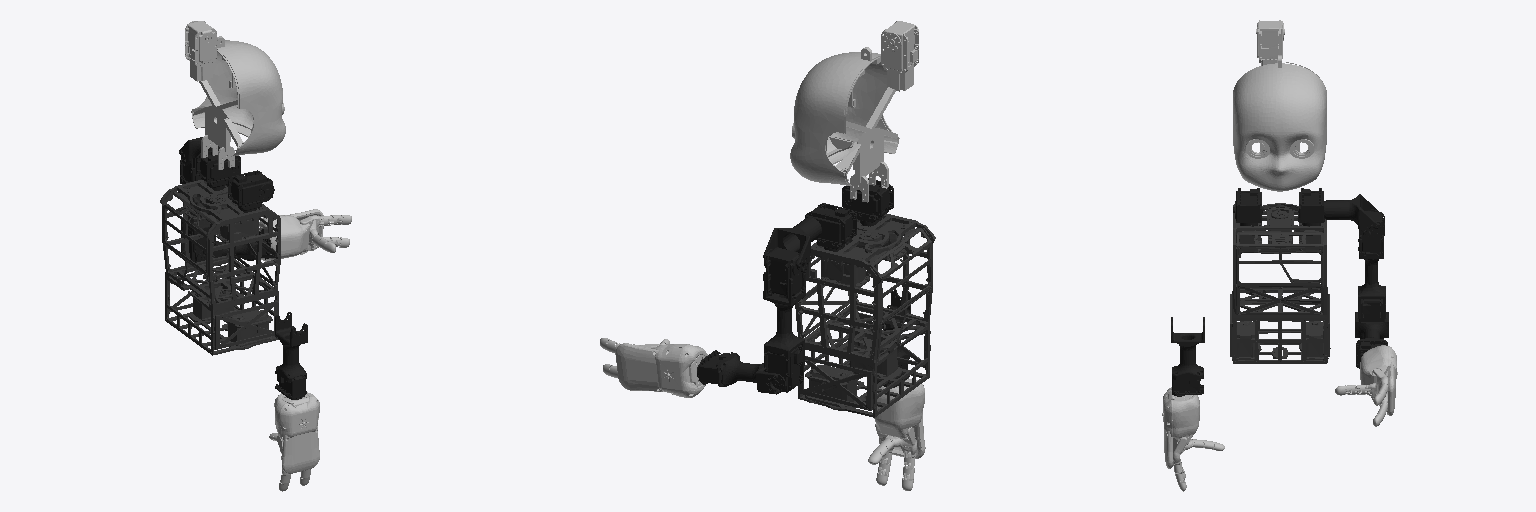
--- Render facts (derived) ---
The picture shows the robot from 3 angles, left to right: view 1: azimuth 30°, elevation 25°; view 2: azimuth 150°, elevation 25°; view 3: azimuth 270°, elevation 25°; orthographic projection.
Robot: nico_upper — 33 links, 32 joints (15 revolute, 17 fixed); root link torso:11; default pose: every joint at zero.
Visible links, largest first — view 1: torso:11, head:21, right_wrist:11, right_lower_arm:11, neck:11, left_wrist:11, right_shoulder:11, left_shoulder:11, left_upper_arm:11; view 2: torso:11, head:21, left_upper_arm:11, left_wrist:11, neck:11, right_wrist:11, left_lower_arm:11, left_shoulder:11, left_collarbone:11, right_shoulder:11; view 3: torso:11, head:21, left_upper_arm:11, right_wrist:11, right_lower_arm:11, left_wrist:11, left_collarbone:11, neck:11, left_lower_arm:11, right_shoulder:11, left_shoulder:11.
Link boxes in pixels (box(x1,y1,x2,y2)): torso:11: box(160, 180, 280, 355); head:21: box(191, 36, 285, 169); right_wrist:11: box(274, 392, 319, 473); right_lower_arm:11: box(275, 312, 307, 399); neck:11: box(185, 21, 216, 81); left_wrist:11: box(259, 209, 323, 261); right_shoulder:11: box(228, 170, 274, 212); left_shoulder:11: box(196, 149, 240, 190); left_upper_arm:11: box(180, 155, 215, 262); torso:11: box(795, 214, 935, 417); head:21: box(790, 47, 899, 202); left_upper_arm:11: box(763, 247, 805, 392); left_wrist:11: box(615, 343, 707, 397); neck:11: box(881, 21, 918, 90); right_wrist:11: box(874, 378, 925, 458); left_lower_arm:11: box(697, 350, 779, 394); left_shoulder:11: box(805, 203, 856, 251); left_collarbone:11: box(763, 217, 821, 272); right_shoulder:11: box(842, 178, 893, 226); torso:11: box(1230, 203, 1330, 363); head:21: box(1233, 55, 1326, 191); left_upper_arm:11: box(1357, 209, 1386, 321); right_wrist:11: box(1162, 387, 1199, 468); right_lower_arm:11: box(1171, 317, 1204, 396); left_wrist:11: box(1360, 345, 1397, 415); left_collarbone:11: box(1326, 194, 1378, 235); neck:11: box(1256, 20, 1284, 65); left_lower_arm:11: box(1355, 312, 1388, 368); right_shoulder:11: box(1233, 188, 1262, 225); left_shoulder:11: box(1298, 188, 1325, 225).
Size in the robot's own frame: 0.3956 by 0.3755 by 0.7687 metres.
31 mesh visuals loaded from 17 distinct referenced files (15 binary STL); not drawn: 2 (reference not matched to a file when rendering).

The robot description file, URDF, robot "nico_upper":
<?xml version="1.0" ?>
<robot name="nico_upper">
	<link name="torso:11">
		<visual>
			<geometry>
				<mesh filename="meshes/torso_simple.stl" scale="0.001 0.001 0.001"/>
			</geometry>
			<origin rpy="0 0 0" xyz="-0.026368 -0.075212 0.525308"/>
			<material name="torso:11_color">
				<color rgba="0.270588 0.270588 0.270588 1"/>
			</material>
		</visual>
		<collision>
			<geometry>
				<mesh filename="meshes/torso_simple.stl" scale="0.001 0.001 0.001"/>
			</geometry>
			<origin rpy="0 0 0" xyz="-0.026368 -0.075212 0.525308"/>
		</collision>
		<inertial>
			<mass value="0.607828"/>
			<inertia ixx="0.006338" ixy="0.000004" ixz="0.000248" iyy="0.005208" iyz="0.000001" izz="0.002162"/>
			<origin rpy="0 0 0" xyz="0.01632 -0.000121 0.649656"/>
		</inertial>
	</link>
    <link name="neck:11">
		<visual>
			<geometry>
				<mesh filename="meshes/neck_simple.stl" scale="0.001 0.001 0.001"/>
			</geometry>
			<origin rpy="0 0 0" xyz="-0.015583 -0.0205 0"/>
			<material name="neck:11_color">
				<color rgba="0.74902 0.74902 0.74902 1"/>
			</material>
		</visual>
		<collision>
			<geometry>
				<mesh filename="meshes/neck_simple.stl" scale="0.001 0.001 0.001"/>
			</geometry>
			<origin rpy="0 0 0" xyz="-0.015583 -0.0205 0"/>
		</collision>
		<inertial>
			<mass value="0.090439"/>
			<inertia ixx="0.00006" ixy="-0" ixz="-0" iyy="0.000056" iyz="-0.000001" izz="0.000019"/>
			<origin rpy="0 0 0" xyz="0 0.000266 0.050352"/>
		</inertial>
	</link>
	<joint name="head_z" type="fixed">
		<parent link="torso:11"/>
		<child link="neck:11"/>
		<origin rpy="0 0 0" xyz="0.001283 -0.000212 0.756309"/>
		<axis xyz="0 0 1"/>
		<limit effort="30" lower="-3.124" upper="3.142" velocity="1"/>
	</joint>
	<link name="head:21">
		<visual>
			<geometry>
				<mesh filename="meshes/head_half_simple.stl" scale="0.001 0.001 0.001"/>
			</geometry>
			<origin rpy="0 0 0" xyz="-0.003998 -0.016462 0.04478"/>
			<material name="head:21_color">
				<color rgba="0.74902 0.74902 0.74902 1"/>
			</material>
		</visual>
		<collision>
			<geometry>
				<mesh filename="meshes/head_half_simple.stl" scale="0.001 0.001 0.001"/>
			</geometry>
			<origin rpy="0 0 0" xyz="-0.003998 -0.016462 0.04478"/>
		</collision>
		<inertial>
			<mass value="0.294137"/>
			<inertia ixx="0.001424" ixy="-0" ixz="0.000083" iyy="0.00159" iyz="-0.000002" izz="0.001485"/>
			<origin rpy="0 0 0" xyz="0.01525 -0.023771 0.09423"/>
		</inertial>
	</link>
	<joint name="head_y" type="fixed">
		<parent link="neck:11"/>
		<child link="head:21"/>
		<origin rpy="0 0 0" xyz="0 0.023001 0.0745"/>
		<axis xyz="0 1 0"/>
		<limit effort="30" lower="-1.553" upper="1.379" velocity="1"/>
	</joint>
	<link name="right_shoulder:11">
		<visual>
			<geometry>
				<mesh filename="meshes/right_shoulder_simple.stl" scale="0.001 0.001 0.001"/>
			</geometry>
			<origin rpy="0 0 0" xyz="-0.062271 0.032843 -0.74045"/>
			<material name="right_shoulder:11_color">
				<color rgba="0.176471 0.176471 0.176471 1"/>
			</material>
		</visual>
		<collision>
			<geometry>
				<mesh filename="meshes/right_shoulder_simple.stl" scale="0.001 0.001 0.001"/>
			</geometry>
			<origin rpy="0 0 0" xyz="-0.062271 0.032843 -0.74045"/>
		</collision>
		<inertial>
			<mass value="0.084038"/>
			<inertia ixx="0.000026" ixy="-0.000001" ixz="-0.000002" iyy="0.000034" iyz="-0" izz="0.000033"/>
			<origin rpy="0 0 0" xyz="0.005637 0.000876 0.033153"/>
		</inertial>
	</link>
	<joint name="r_shoulder_z_rjoint" type="revolute">
		<parent link="torso:11"/>
		<child link="right_shoulder:11"/>
		<origin rpy="0 0 -0.20444" xyz="0.026783 -0.049912 0.748809"/>
		<axis xyz="0 0 1"/>
		<limit effort="30" lower="-1.745" upper="2.182" velocity="1"/>
	</joint>
	<link name="right_collarbone:11">
		<visual>
			<geometry>
				<mesh filename="meshes/right_collar_simple.stl" scale="0.001 0.001 0.001"/>
			</geometry>
			<origin rpy="0 0 0" xyz="-0.0285 -0.054827 -0.000102"/>
			<material name="right_collarbone:11_color">
				<color rgba="0.176471 0.176471 0.176471 1"/>
			</material>
		</visual>
		<collision>
			<geometry>
				<mesh filename="meshes/right_upper_arm_simple.stl" scale="0.001 0.001 0.001"/>
			</geometry>
			<origin rpy="0 0 0" xyz="-0.0285 -0.054827 -0.000102"/>
		</collision>
		<inertial>
			<mass value="0.024811"/>
			<inertia ixx="0.000014" ixy="-0" ixz="0" iyy="0.000011" iyz="-0.000001" izz="0.000019"/>
			<origin rpy="0 0 0" xyz="-0 -0.041345 -0.002364"/>
		</inertial>
	</link>
	<joint name="r_shoulder_y_rjoint" type="revolute">
		<parent link="right_shoulder:11"/>
		<child link="right_collarbone:11"/>
		<origin rpy="0 0 0.20444" xyz="0.026211 -0.018056 0.037"/>
		<axis xyz="0 -1 0"/>
		<limit effort="30" lower="-3.142" upper="3.124" velocity="1"/>
	</joint>
	<link name="right_upper_arm:11">
		<visual>
			<geometry>
				<mesh filename="meshes/right_lower_arm_simple.stl" scale="0.001 0.001 0.001"/>
			</geometry>
			<origin rpy="0 0 0" xyz="-0.044001 -0.021 -0.139458"/>
			<material name="right_upper_arm:11_color">
				<color rgba="0.176471 0.176471 0.176471 1"/>
			</material>
		</visual>
		<collision>meshes/right_lower_arm1_iam_65a34910.STL
			<geometry>
				<mesh filename="meshes/right_lower_arm_simple.stl" scale="0.001 0.001 0.001"/>
			</geometry>
			<origin rpy="0 0 0" xyz="-0.044001 -0.021 -0.139458"/>
		</collision>
		<inertial>
			<mass value="0.189729"/>
			<inertia ixx="0.000851" ixy="0" ixz="0" iyy="0.000851" iyz="-0.000005" izz="0.000048"/>
			<origin rpy="0 0 0" xyz="-0.02306 -0.000321 -0.0866"/>
		</inertial>
	</link>
	<joint name="r_arm_x_rjoint" type="revolute">
		<parent link="right_collarbone:11"/>
		<child link="right_upper_arm:11"/>
		<origin rpy="0 0 0" xyz="0.0245 -0.073664 -0.022853"/>
		<axis xyz="1 0 0"/>
		<limit effort="30" lower="-3.002" upper="1.8675" velocity="1"/>
	</joint>
	<link name="right_lower_arm:11">
		<visual>
			<geometry>
				<mesh filename="meshes/right_lowerarm_simple.stl" scale="0.001 0.001 0.001"/>
			</geometry>
			<origin rpy="0 0 0" xyz="-0.0168 -0.0018 -0.123873"/>
			<material name="right_lower_arm:11_color">
				<color rgba="0.176471 0.176471 0.176471 1"/>
			</material>
		</visual>
		<collision>
			<geometry>
				<mesh filename="meshes/right_lowerarm_simple.stl" scale="0.001 0.001 0.001"/>
			</geometry>
			<origin rpy="0 0 0" xyz="-0.0168 -0.0018 -0.123873"/>
		</collision>
		<inertial>
			<mass value="0.076793"/>
			<inertia ixx="0.000104" ixy="-0" ixz="-0" iyy="0.000095" iyz="-0.000002" izz="0.000021"/>
			<origin rpy="0 0 0" xyz="0 0.022485 -0.081055"/>
		</inertial>
	</link>
	<joint name="r_elbow_y_rjoint" type="revolute">
		<parent link="right_upper_arm:11"/>
		<child link="right_lower_arm:11"/>
		<origin rpy="0 0 0" xyz="-0.023001 -0.024001 -0.1732"/>
		<axis xyz="0 1 0"/>
		<limit effort="30" lower="-1.745" upper="1.745" velocity="1"/>
	</joint>
	<link name="right_wrist:11">
		<visual>
			<geometry>
				<mesh filename="meshes/right_wrist_simple.stl" scale="0.001 0.001 0.001"/>
			</geometry>
			<origin rpy="0 0 0" xyz="-0.000319 0.006617 -0.070181"/>
			<material name="right_wrist:11_color">
				<color rgba="0.74902 0.74902 0.74902 1"/>
			</material>
		</visual>
		<collision>
			<geometry>
				<mesh filename="meshes/right_wrist_simple.stl" scale="0.001 0.001 0.001"/>
			</geometry>
			<origin rpy="0 0 0" xyz="-0.000319 0.006617 -0.070181"/>
		</collision>
		<inertial>
			<mass value="0.028397"/>
			<inertia ixx="0.000043" ixy="-0" ixz="0.000004" iyy="0.000058" iyz="-0.000007" izz="0.000029"/>
			<origin rpy="0 0 0" xyz="0.000031 -0.011056 -0.0675"/>
		</inertial>
	</link>
	<joint name="r_wrist_z_rjoint" type="revolute">
		<parent link="right_lower_arm:11"/>
		<child link="right_wrist:11"/>
		<origin rpy="0 0 0.028946" xyz="0 0.0102 -0.12605"/>
		<axis xyz="0 0 1"/>
		<limit effort="30" lower="-1.571" upper="1.571" velocity="1"/>
	</joint>l
	<link name="gripper"> <!--gripper-->
		<visual>
			<geometry>
				<mesh filename="meshes/right_palm_simple.stl" scale="0.001 0.001 0.001"/>
			</geometry>
			<origin rpy="0 0 0" xyz="-0.022933 0.001906 -0.017233"/>
			<material name="gripper_color">
				<color rgba="0.74902 0.74902 0.74902 1"/>
			</material>
		</visual>
		<collision>
			<geometry>
				<mesh filename="meshes/right_palm_simple.stl" scale="0.001 0.001 0.001"/>
			</geometry>
			<origin rpy="0 0 0" xyz="-0.022933 0.001906 -0.017233"/>
		</collision>
		<inertial>
			<mass value="0.005332"/>
			<inertia ixx="0.000015" ixy="0.000001" ixz="-0.000004" iyy="0.000017" iyz="0.000004" izz="0.000006"/>
			<origin rpy="0 0 0" xyz="-0.029511 0.002253 -0.023968"/>
		</inertial>
	</link>
	<joint name="r_wrist_x_gjoint" type="revolute">
		<parent link="right_wrist:11"/>
		<child link="gripper"/>
		<origin rpy="-0.433097 0 0" xyz="0.023416 0.006052 -0.070337"/>
		<axis xyz="1 0 0"/>
		<limit effort="30" lower="0" upper="0.872665" velocity="1"/>
	</joint>
	<link name="finger_segment:23">
		<visual>
			<geometry>
				<mesh filename="meshes/finger_segment_ipt_50d2a7f4.STL" scale="0.001 0.001 0.001"/>
			</geometry>
			<origin rpy="0 0 0" xyz="-0.006681 -0.015507 -0.007416"/>
			<material name="finger_segment:23_color">
				<color rgba="0.74902 0.74902 0.74902 1"/>
			</material>
		</visual>
		<collision>
			<geometry>
				<mesh filename="meshes/finger_segment_ipt_50d2a7f4.STL" scale="0.001 0.001 0.001"/>
			</geometry>
			<origin rpy="0 0 0" xyz="-0.006681 -0.015507 -0.007416"/>
		</collision>
		<inertial>
			<mass value="0.000009"/>
			<inertia ixx="0" ixy="0" ixz="-0" iyy="0" iyz="0" izz="0"/>
			<origin rpy="0 0 0" xyz="0.004909 0.000556 -0.005751"/>
		</inertial>
	</link>
	<joint name="r_indexfingers_x_rjoint" type="revolute">
		<parent link="gripper"/>
		<child link="finger_segment:23"/>
		<origin rpy="-0.578103 0.062904 -3.141593" xyz="-0.001139 0.006226 -0.040004"/>
		<axis xyz="0.998022 0.00962907 0.0621208"/>
		<limit effort="30" lower="-1.309" upper="0" velocity="1"/>
	</joint>
	<link name="finger_segment:13">
		<visual>
			<geometry>
				<mesh filename="meshes/finger_segment_ipt_50d2a7f4.STL" scale="0.001 0.001 0.001"/>
			</geometry>
			<origin rpy="0 0 0" xyz="-0.006181 -0.015507 -0.007417"/>
			<material name="finger_segment:13_color">
				<color rgba="0.74902 0.74902 0.74902 1"/>
			</material>
		</visual>
		<collision>
			<geometry>
				<mesh filename="meshes/finger_segment_ipt_50d2a7f4.STL" scale="0.001 0.001 0.001"/>
			</geometry>
			<origin rpy="0 0 0" xyz="-0.006181 -0.015507 -0.007417"/>
		</collision>
		<inertial>
			<mass value="0.000009"/>
			<inertia ixx="0" ixy="0" ixz="-0" iyy="0" iyz="0" izz="0"/>
			<origin rpy="0 0 0" xyz="0.005409 0.000556 -0.005751"/>
		</inertial>
	</link>
	<joint name="r_indexfinger_1st_gjoint" type="revolute">
		<parent link="finger_segment:23"/>
		<child link="finger_segment:13"/>
		<origin rpy="-0.095246 0 0" xyz="-0.0005 0 -0.015999"/>
		<axis xyz="0.998022 0.00962907 0.0621208"/>
		<limit effort="30" lower="-1.309" upper="0" velocity="1"/>
	</joint>
	<link name="fingertip:13">
		<visual>
			<geometry>
				<mesh filename="meshes/fingertip_ipt_8417b8a9.STL" scale="0.001 0.001 0.001"/>
			</geometry>
			<origin rpy="0 0 0" xyz="0.005514 0.000374 -0.010171"/>
			<material name="fingertip:13_color">
				<color rgba="0.74902 0.74902 0.74902 1"/>
			</material>
		</visual>
		<collision>
			<geometry>
				<mesh filename="meshes/fingertip_ipt_8417b8a9.STL" scale="0.001 0.001 0.001"/>
			</geometry>
			<origin rpy="0 0 0" xyz="0.005514 0.000374 -0.010171"/>
		</collision>
		<inertial>
			<mass value="0.000008"/>
			<inertia ixx="0" ixy="-0" ixz="-0" iyy="0" iyz="-0" izz="0"/>
			<origin rpy="0 0 0" xyz="0.005013 0.000408 -0.010216"/>
		</inertial>
	</link>
	<joint name="endeffector_gjoint" type="revolute"><!--r_indexfinger_2nd_x-->
		<parent link="finger_segment:13"/>
		<child link="fingertip:13"/>
		<origin rpy="-0.109614 0 0" xyz="0 -0 -0.016"/>
		<axis xyz="0.998022 0.00962907 0.0621208"/>
		<limit effort="30" lower="-1.309" upper="0" velocity="1"/>
	</joint>
	<link name="endeffector"><!--finger_segment:22-->
		<visual>
			<geometry>
				<mesh filename="meshes/finger_segment_ipt_50d2a7f4.STL" scale="0.001 0.001 0.001"/>
			</geometry>
			<origin rpy="0 0 0" xyz="-0.006681 -0.015507 -0.007416"/>
			<material name="finger_segment:22_color">
				<color rgba="0.74902 0.74902 0.74902 1"/>
			</material>
		</visual>
		<collision>
			<geometry>
				<mesh filename="meshes/finger_segment_ipt_50d2a7f4.STL" scale="0.001 0.001 0.001"/>
			</geometry>
			<origin rpy="0 0 0" xyz="-0.006681 -0.015507 -0.007416"/>
		</collision>
		<inertial>
			<mass value="0.000009"/>
			<inertia ixx="0" ixy="0" ixz="-0" iyy="0" iyz="0" izz="0"/>
			<origin rpy="0 0 0" xyz="0.004909 0.000556 -0.005751"/>
		</inertial>
	</link>
	<joint name="r_ringfingers_x_gjoint" type="revolute">
		<parent link="gripper"/>
		<child link="endeffector"/>
		<origin rpy="-0.569851 -0.062904 -3.141593" xyz="-0.035879 0.006226 -0.040569"/>
		<axis xyz="0.998022 -0.00962907 -0.0621208"/>
		<limit effort="30" lower="-1.309" upper="0" velocity="1"/>
	</joint>
	<link name="finger_segment:12">
		<visual>
			<geometry>
				<mesh filename="meshes/finger_segment_ipt_50d2a7f4.STL" scale="0.001 0.001 0.001"/>
			</geometry>
			<origin rpy="0 0 0" xyz="-0.006181 -0.015507 -0.007417"/>
			<material name="finger_segment:12_color">
				<color rgba="0.74902 0.74902 0.74902 1"/>
			</material>
		</visual>
		<collision>
			<geometry>
				<mesh filename="meshes/finger_segment_ipt_50d2a7f4.STL" scale="0.001 0.001 0.001"/>
			</geometry>
			<origin rpy="0 0 0" xyz="-0.006181 -0.015507 -0.007417"/>
		</collision>
		<inertial>
			<mass value="0.000009"/>
			<inertia ixx="0" ixy="0" ixz="-0" iyy="0" iyz="0" izz="0"/>
			<origin rpy="0 0 0" xyz="0.005409 0.000556 -0.005752"/>
		</inertial>
	</link>
	<joint name="r_ringfinger_1st_x_gjoint" type="revolute">
		<parent link="endeffector"/>
		<child link="finger_segment:12"/>
		<origin rpy="-0.095245 0 0" xyz="-0.0005 0 -0.016"/>
		<axis xyz="0.998022 -0.00962907 -0.0621208"/>
		<limit effort="30" lower="-1.309" upper="0" velocity="1"/>
	</joint>
	<link name="fingertip:12">
		<visual>
			<geometry>
				<mesh filename="meshes/fingertip_ipt_8417b8a9.STL" scale="0.001 0.001 0.001"/>
			</geometry>
			<origin rpy="0 0 0" xyz="0.005514 0.000373 -0.010171"/>
			<material name="fingertip:12_color">
				<color rgba="0.74902 0.74902 0.74902 1"/>
			</material>
		</visual>
		<collision>
			<geometry>
				<mesh filename="meshes/fingertip_ipt_8417b8a9.STL" scale="0.001 0.001 0.001"/>
			</geometry>
			<origin rpy="0 0 0" xyz="0.005514 0.000373 -0.010171"/>
		</collision>
		<inertial>
			<mass value="0.000008"/>
			<inertia ixx="0" ixy="-0" ixz="-0" iyy="0" iyz="-0" izz="0"/>
			<origin rpy="0 0 0" xyz="0.005013 0.000407 -0.010215"/>
		</inertial>
	</link>
	<joint name="r_ringfinger_2nd_x_gjoint" type="revolute">
		<parent link="finger_segment:12"/>
		<child link="fingertip:12"/>
		<origin rpy="-0.109614 0 0" xyz="0 -0 -0.016"/>
		<axis xyz="0.998022 -0.00962907 -0.0621208"/>
		<limit effort="30" lower="-1.309" upper="0" velocity="1"/>
	</joint>
	<link name="finger_segment:21">
		<visual>
			<geometry>
				<mesh filename="meshes/finger_segment_ipt_50d2a7f4.STL" scale="0.001 0.001 0.001"/>
			</geometry>
			<origin rpy="0 0 0" xyz="-0.006681 -0.015507 -0.007417"/>
			<material name="finger_segment:21_color">
				<color rgba="0.74902 0.74902 0.74902 1"/>
			</material>
		</visual>
		<collision>
			<geometry>
				<mesh filename="meshes/finger_segment_ipt_50d2a7f4.STL" scale="0.001 0.001 0.001"/>
			</geometry>
			<origin rpy="0 0 0" xyz="-0.006681 -0.015507 -0.007417"/>
		</collision>
		<inertial>
			<mass value="0.000009"/>
			<inertia ixx="0" ixy="0" ixz="-0" iyy="0" iyz="0" izz="0"/>
			<origin rpy="0 0 0" xyz="0.004909 0.000556 -0.005752"/>
		</inertial>
	</link>
	<joint name="r_thumb_x_gjoint" type="revolute">
		<parent link="gripper"/>
		<child link="finger_segment:21"/>
		<origin rpy="1.915504 0 0" xyz="-0.0275 0.0199 -0.00842"/>
		<axis xyz="1 0 0"/>
		<limit effort="30" lower="-1.309" upper="0" velocity="1"/>
	</joint>
	<link name="finger_segment:11">
		<visual>
			<geometry>
				<mesh filename="meshes/finger_segment_ipt_50d2a7f4.STL" scale="0.001 0.001 0.001"/>
			</geometry>
			<origin rpy="0 0 0" xyz="-0.006181 -0.015507 -0.007416"/>
			<material name="finger_segment:11_color">
				<color rgba="0.74902 0.74902 0.74902 1"/>
			</material>
		</visual>
		<collision>
			<geometry>
				<mesh filename="meshes/finger_segment_ipt_50d2a7f4.STL" scale="0.001 0.001 0.001"/>
			</geometry>
			<origin rpy="0 0 0" xyz="-0.006181 -0.015507 -0.007416"/>
		</collision>
		<inertial>
			<mass value="0.000009"/>
			<inertia ixx="0" ixy="0" ixz="-0" iyy="0" iyz="0" izz="0"/>
			<origin rpy="0 0 0" xyz="0.005409 0.000557 -0.005751"/>
		</inertial>
	</link>
	<joint name="r_thumb_1st_x_gjoint" type="revolute">
		<parent link="finger_segment:21"/>
		<child link="finger_segment:11"/>
		<origin rpy="-0.095246 0 0" xyz="-0.0005 -0.000001 -0.016001"/>
		<axis xyz="1 0 0"/>
		<limit effort="30" lower="-1.309" upper="0" velocity="1"/>
	</joint>
	<link name="fingertip:11">
		<visual>
			<geometry>
				<mesh filename="meshes/fingertip_ipt_8417b8a9.STL" scale="0.001 0.001 0.001"/>
			</geometry>
			<origin rpy="0 0 0" xyz="0.005514 0.000374 -0.010171"/>
			<material name="fingertip:11_color">
				<color rgba="0.74902 0.74902 0.74902 1"/>
			</material>
		</visual>
		<collision>
			<geometry>
				<mesh filename="meshes/fingertip_ipt_8417b8a9.STL" scale="0.001 0.001 0.001"/>
			</geometry>
			<origin rpy="0 0 0" xyz="0.005514 0.000374 -0.010171"/>
		</collision>
		<inertial>
			<mass value="0.000008"/>
			<inertia ixx="0" ixy="-0" ixz="-0" iyy="0" iyz="-0" izz="0"/>
			<origin rpy="0 0 0" xyz="0.005013 0.000408 -0.010216"/>
		</inertial>
	</link>
	<joint name="r_thumb_2nd_x_gjoint" type="revolute">
		<parent link="finger_segment:11"/>
		<child link="fingertip:11"/>
		<origin rpy="-0.109614 0 0" xyz="0 0.000001 -0.015999"/>
		<axis xyz="1 0 0"/>
		<limit effort="30" lower="-1.309" upper="0" velocity="1"/>
	</joint>
	<link name="left_shoulder:11">
		<visual>
			<geometry>
				<mesh filename="meshes/left_shoulder_simple.stl" scale="0.001 0.001 0.001"/>
			</geometry>
			<origin rpy="0 0 0" xyz="0.014919 0.097299 -0.01461"/>
			<material name="left_shoulder:11_color">
				<color rgba="0.176471 0.176471 0.176471 1"/>
			</material>
		</visual>
		<collision>
			<geometry>
				<mesh filename="meshes/left_shoulder_simple.stl" scale="0.001 0.001 0.001"/>
			</geometry>
			<origin rpy="0 0 0" xyz="0.014919 0.097299 -0.01461"/>
		</collision>
		<inertial>
			<mass value="0.084038"/>
			<inertia ixx="0.000026" ixy="-0.000001" ixz="-0.000002" iyy="0.000034" iyz="-0" izz="0.000033"/>
			<origin rpy="0 0 0" xyz="0.005702 0.000175 0.033153"/>
		</inertial>
	</link>
	<joint name="l_shoulder_z" type="fixed">
		<parent link="torso:11"/>
		<child link="left_shoulder:11"/>
		<origin rpy="0 0 0.019617" xyz="0.026783 0.049488 0.748809"/>
		<axis xyz="0 0 1"/>
		<limit effort="30" lower="-2.182" upper="1.745" velocity="1"/>
	</joint>
	<link name="left_collarbone:11">
		<visual>
			<geometry>
				<mesh filename="meshes/left_upper_arm_simple.stl" scale="0.001 0.001 0.001"/>
			</geometry>
			<origin rpy="0 0 0" xyz="-0.00032 -0.000277 0.000298"/>
			<material name="left_collarbone:11_color">
				<color rgba="0.176471 0.176471 0.176471 1"/>
			</material>
		</visual>
		<collision>
			<geometry>
				<mesh filename="meshes/left_upper_arm_simple.stl" scale="0.001 0.001 0.001"/>
			</geometry>
			<origin rpy="0 0 0" xyz="-0.00032 -0.000277 0.000298"/>
		</collision>
		<inertial>
			<mass value="0.024811"/>
			<inertia ixx="0.000014" ixy="0" ixz="0" iyy="0.000011" iyz="0.000001" izz="0.000019"/>
			<origin rpy="0 0 0" xyz="-0 0.041345 -0.002364"/>
		</inertial>
	</link>
	<joint name="l_shoulder_y" type="fixed">
		<parent link="left_shoulder:11"/>
		<child link="left_collarbone:11"/>
		<origin rpy="0 -0.00445 -0.019538" xyz="0.022445 0.022567 0.037"/>
		<axis xyz="0 1 0"/>
		<limit effort="30" lower="-3.124" upper="3.142" velocity="1"/>
	</joint>
	<link name="left_upper_arm:11">
		<visual>
			<geometry>
				<mesh filename="meshes/left_lower_arm_simple.stl" scale="0.001 0.001 0.001"/>
			</geometry>
			<origin rpy="0 0 0" xyz="-0.044837 -0.009349 -0.161585"/>
			<material name="left_upper_arm:11_color">
				<color rgba="0.176471 0.176471 0.176471 1"/>
			</material>
		</visual>
		<inertial>
			<mass value="0.192388"/>
			<inertia ixx="0.00085" ixy="0" ixz="-0.00005" iyy="0.000853" iyz="0.000001" izz="0.000052"/>
			<origin rpy="0 0 0" xyz="-0.028636 -0.000703 -0.084224"/>
		</inertial>
	</link>
	<joint name="l_arm_x" type="fixed">
		<parent link="left_collarbone:11"/>
		<child link="left_upper_arm:11"/>
		<origin rpy="0.000683 -0.051282 -0.000035" xyz="0.0245 0.073663 -0.022853"/>
		<axis xyz="1 0 0"/>
		<limit effort="30" lower="-1.8675" upper="3.002" velocity="1"/>
	</joint>
	<link name="left_lower_arm:11">
		<visual>
			<geometry>
				<mesh filename="meshes/left_lowerarm_simple.stl" scale="0.001 0.001 0.001"/>
			</geometry>
			<origin rpy="0 0 0" xyz="0.000017 -0.010775 -0.12546"/>
			<material name="left_lower_arm:11_color">
				<color rgba="0.176471 0.176471 0.176471 1"/>
			</material>
		</visual>
		<inertial>
			<mass value="0.076791"/>
			<inertia ixx="0.000104" ixy="-0" ixz="-0" iyy="0.000095" iyz="0.000002" izz="0.000021"/>
			<origin rpy="0 0 0" xyz="0 -0.022485 -0.081055"/>
		</inertial>
	</link>
	<joint name="l_elbow_y" type="fixed">
		<parent link="left_upper_arm:11"/>
		<child link="left_lower_arm:11"/>
		<origin rpy="0 -1.405976 0" xyz="-0.034583 0.023066 -0.169859"/>
		<axis xyz="0 -1 0"/>
		<limit effort="30" lower="1.545" upper="1.745" velocity="1"/>
	</joint>
	<link name="left_wrist:11">
		<visual>
			<geometry>
				<mesh filename="meshes/left_wrist_simple.stl" scale="0.001 0.001 0.001"/>
			</geometry>
			<origin rpy="0 0 0" xyz="-0.000319 0.006617 0.070682"/>
			<material name="left_wrist:11_color">
				<color rgba="0.74902 0.74902 0.74902 1"/>
			</material>
		</visual>
		<collision>
			<geometry>
				<mesh filename="meshes/left_wrist_simple.stl" scale="0.001 0.001 0.001"/>
			</geometry>
			<origin rpy="0 0 0" xyz="-0.000319 0.006617 0.070682"/>
		</collision>
		<inertial>
			<mass value="0.028361"/>
			<inertia ixx="0.000038" ixy="-0" ixz="-0" iyy="0.000039" iyz="0.000007" izz="0.000015"/>
			<origin rpy="0 0 0" xyz="0.00007 -0.011053 0.067769"/>
		</inertial>
	</link>
	<joint name="l_wrist_z" type="fixed">
		<parent link="left_lower_arm:11"/>
		<child link="left_wrist:11"/>
		<origin rpy="3.141593 0 0.028703" xyz="0 -0.010201 -0.12555"/>
		<axis xyz="0 0 -1"/>
		<limit effort="30" lower="-1.571" upper="1.571" velocity="1"/>
	</joint>
	<link name="left_palm:11">
		<visual>
			<geometry>
				<mesh filename="meshes/left_palm_simple.stl" scale="0.001 0.001 0.001"/>
			</geometry>
			<origin rpy="0 0 0" xyz="-0.023233 0.001906 0.017234"/>
			<material name="left_palm:11_color">
				<color rgba="0.74902 0.74902 0.74902 1"/>
			</material>
		</visual>
		<collision>
			<geometry>
				<mesh filename="meshes/left_palm_simple.stl" scale="0.001 0.001 0.001"/>
			</geometry>
			<origin rpy="0 0 0" xyz="-0.023233 0.001906 0.017234"/>
		</collision>
		<inertial>
			<mass value="0.005222"/>
			<inertia ixx="0.000001" ixy="0" ixz="-0" iyy="0.000002" iyz="-0" izz="0.000002"/>
			<origin rpy="0 0 0" xyz="-0.027199 0.000117 0.017191"/>
		</inertial>
	</link>
	<joint name="l_wrist_x" type="fixed">
		<parent link="left_wrist:11"/>
		<child link="left_palm:11"/>
		<origin rpy="0.460941 0 0" xyz="0.023416 0.006052 0.070837"/>
		<axis xyz="1 0 0"/>
		<limit effort="30" lower="-0.872665" upper="0" velocity="1"/>
	</joint>
	<link name="finger_segment:24">
		<visual>
			<geometry>
				<mesh filename="meshes/finger_segment_ipt_50d2a7f4.STL" scale="0.001 0.001 0.001"/>
			</geometry>
			<origin rpy="0 0 0" xyz="-0.015691 -0.015508 -0.007416"/>
			<material name="finger_segment:24_color">
				<color rgba="0.74902 0.74902 0.74902 1"/>
			</material>
		</visual>
		<collision>
			<geometry>
				<mesh filename="meshes/finger_segment_ipt_50d2a7f4.STL" scale="0.001 0.001 0.001"/>
			</geometry>
			<origin rpy="0 0 0" xyz="-0.015691 -0.015508 -0.007416"/>
		</collision>
		<inertial>
			<mass value="0.000009"/>
			<inertia ixx="0" ixy="0" ixz="-0" iyy="0" iyz="0" izz="0"/>
			<origin rpy="0 0 0" xyz="-0.004101 0.000556 -0.005752"/>
		</inertial>
	</link>
	<joint name="l_thumb_x" type="fixed">
		<parent link="left_palm:11"/>
		<child link="finger_segment:24"/>
		<origin rpy="-1.130534 0 -3.141593" xyz="-0.028 0.0199 0.00842"/>
		<axis xyz="1 0 0"/>
		<limit effort="30" lower="-1.309" upper="0" velocity="1"/>
	</joint>
	<link name="finger_segment:14">
		<visual>
			<geometry>
				<mesh filename="meshes/finger_segment_ipt_50d2a7f4.STL" scale="0.001 0.001 0.001"/>
			</geometry>
			<origin rpy="0 0 0" xyz="-0.006181 -0.015507 -0.007417"/>
			<material name="finger_segment:14_color">
				<color rgba="0.74902 0.74902 0.74902 1"/>
			</material>
		</visual>
		<collision>
			<geometry>
				<mesh filename="meshes/finger_segment_ipt_50d2a7f4.STL" scale="0.001 0.001 0.001"/>
			</geometry>
			<origin rpy="0 0 0" xyz="-0.006181 -0.015507 -0.007417"/>
		</collision>
		<inertial>
			<mass value="0.000009"/>
			<inertia ixx="0" ixy="0" ixz="-0" iyy="0" iyz="0" izz="0"/>
			<origin rpy="0 0 0" xyz="0.005409 0.000556 -0.005751"/>
		</inertial>
	</link>
	<joint name="l_thumb_1st_x" type="fixed">
		<parent link="finger_segment:24"/>
		<child link="finger_segment:14"/>
		<origin rpy="-0.095246 0 0" xyz="-0.00951 0 -0.016"/>
		<axis xyz="1 0 0"/>
		<limit effort="30" lower="-1.309" upper="0" velocity="1"/>
	</joint>
	<link name="fingertip:14">
		<visual>
			<geometry>
				<mesh filename="meshes/fingertip_ipt_8417b8a9.STL" scale="0.001 0.001 0.001"/>
			</geometry>
			<origin rpy="0 0 0" xyz="0.005514 0.000374 -0.010171"/>
			<material name="fingertip:14_color">
				<color rgba="0.74902 0.74902 0.74902 1"/>
			</material>
		</visual>
		<collision>
			<geometry>
				<mesh filename="meshes/fingertip_ipt_8417b8a9.STL" scale="0.001 0.001 0.001"/>
			</geometry>
			<origin rpy="0 0 0" xyz="0.005514 0.000374 -0.010171"/>
		</collision>
		<inertial>
			<mass value="0.000008"/>
			<inertia ixx="0" ixy="-0" ixz="-0" iyy="0" iyz="-0" izz="0"/>
			<origin rpy="0 0 0" xyz="0.005013 0.000408 -0.010216"/>
		</inertial>
	</link>
	<joint name="l_thumb_2nd_x" type="fixed">
		<parent link="finger_segment:14"/>
		<child link="fingertip:14"/>
		<origin rpy="-0.109614 0 0" xyz="0 -0 -0.016"/>
		<axis xyz="1 0 0"/>
		<limit effort="30" lower="-1.309" upper="0" velocity="1"/>
	</joint>
	<link name="finger_segment:25">
		<visual>
			<geometry>
				<mesh filename="meshes/finger_segment_ipt_50d2a7f4.STL" scale="0.001 0.001 0.001"/>
			</geometry>
			<origin rpy="0 0 0" xyz="-0.015691 -0.015506 -0.007417"/>
			<material name="finger_segment:25_color">
				<color rgba="0.74902 0.74902 0.74902 1"/>
			</material>
		</visual>
		<collision>
			<geometry>
				<mesh filename="meshes/finger_segment_ipt_50d2a7f4.STL" scale="0.001 0.001 0.001"/>
			</geometry>
			<origin rpy="0 0 0" xyz="-0.015691 -0.015506 -0.007417"/>
		</collision>
		<inertial>
			<mass value="0.000009"/>
			<inertia ixx="0" ixy="0" ixz="-0" iyy="0" iyz="0" izz="0"/>
			<origin rpy="0 0 0" xyz="-0.004101 0.000556 -0.005752"/>
		</inertial>
	</link>
	<joint name="l_indexfingers_x" type="fixed">
		<parent link="left_palm:11"/>
		<child link="finger_segment:25"/>
		<origin rpy="2.492946 0.062904 0" xyz="-0.001439 0.006226 0.040004"/>
		<axis xyz="0.99794 -0.0170003 -0.0618655"/>
		<limit effort="30" lower="-1.309" upper="0" velocity="1"/>
	</joint>
	<link name="finger_segment:15">
		<visual>
			<geometry>
				<mesh filename="meshes/finger_segment_ipt_50d2a7f4.STL" scale="0.001 0.001 0.001"/>
			</geometry>
			<origin rpy="0 0 0" xyz="-0.006181 -0.015507 -0.007416"/>
			<material name="finger_segment:15_color">
				<color rgba="0.74902 0.74902 0.74902 1"/>
			</material>
		</visual>
		<collision>
			<geometry>
				<mesh filename="meshes/finger_segment_ipt_50d2a7f4.STL" scale="0.001 0.001 0.001"/>
			</geometry>
			<origin rpy="0 0 0" xyz="-0.006181 -0.015507 -0.007416"/>
		</collision>
		<inertial>
			<mass value="0.000009"/>
			<inertia ixx="0" ixy="0" ixz="-0" iyy="0" iyz="0" izz="0"/>
			<origin rpy="0 0 0" xyz="0.005409 0.000556 -0.005751"/>
		</inertial>
	</link>
	<joint name="l_indexfinger_1st_x" type="fixed">
		<parent link="finger_segment:25"/>
		<child link="finger_segment:15"/>
		<origin rpy="-0.095245 0 0" xyz="-0.00951 0 -0.016"/>
		<axis xyz="0.99794 -0.0170003 -0.0618655"/>
		<limit effort="30" lower="-1.309" upper="0" velocity="1"/>
	</joint>
	<link name="fingertip:15">
		<visual>
			<geometry>
				<mesh filename="meshes/fingertip_ipt_8417b8a9.STL" scale="0.001 0.001 0.001"/>
			</geometry>
			<origin rpy="0 0 0" xyz="0.005514 0.000374 -0.010171"/>
			<material name="fingertip:15_color">
				<color rgba="0.74902 0.74902 0.74902 1"/>
			</material>
		</visual>
		<collision>
			<geometry>
				<mesh filename="meshes/fingertip_ipt_8417b8a9.STL" scale="0.001 0.001 0.001"/>
			</geometry>
			<origin rpy="0 0 0" xyz="0.005514 0.000374 -0.010171"/>
		</collision>
		<inertial>
			<mass value="0.000008"/>
			<inertia ixx="0" ixy="-0" ixz="-0" iyy="0" iyz="-0" izz="0"/>
			<origin rpy="0 0 0" xyz="0.005013 0.000408 -0.010216"/>
		</inertial>
	</link>
	<joint name="l_indexfinger_2nd_x" type="fixed">
		<parent link="finger_segment:15"/>
		<child link="fingertip:15"/>
		<origin rpy="-0.109614 0 0" xyz="0 -0 -0.016"/>
		<axis xyz="0.99794 -0.0170003 -0.0618655"/>
		<limit effort="30" lower="-1.309" upper="0" velocity="1"/>
	</joint>
	<link name="finger_segment:26">
		<visual>
			<geometry>
				<mesh filename="meshes/finger_segment_ipt_50d2a7f4.STL" scale="0.001 0.001 0.001"/>
			</geometry>
			<origin rpy="0 0 0" xyz="-0.015691 -0.015507 -0.007416"/>
			<material name="finger_segment:26_color">
				<color rgba="0.74902 0.74902 0.74902 1"/>
			</material>
		</visual>
		<collision>
			<geometry>
				<mesh filename="meshes/finger_segment_ipt_50d2a7f4.STL" scale="0.001 0.001 0.001"/>
			</geometry>
			<origin rpy="0 0 0" xyz="-0.015691 -0.015507 -0.007416"/>
		</collision>
		<inertial>
			<mass value="0.000009"/>
			<inertia ixx="0" ixy="0" ixz="-0" iyy="0" iyz="0" izz="0"/>
			<origin rpy="0 0 0" xyz="-0.004101 0.000556 -0.005751"/>
		</inertial>
	</link>
	<joint name="l_ringfingers_x" type="fixed">
		<parent link="left_palm:11"/>
		<child link="finger_segment:26"/>
		<origin rpy="2.499505 -0.062904 0" xyz="-0.036179 0.006226 0.04057"/>
		<axis xyz="0.998051 0.00234199 0.0623629"/>
		<limit effort="30" lower="-1.309" upper="0" velocity="1"/>
	</joint>
	<link name="finger_segment:16">
		<visual>
			<geometry>
				<mesh filename="meshes/finger_segment_ipt_50d2a7f4.STL" scale="0.001 0.001 0.001"/>
			</geometry>
			<origin rpy="0 0 0" xyz="-0.006181 -0.015508 -0.007416"/>
			<material name="finger_segment:16_color">
				<color rgba="0.74902 0.74902 0.74902 1"/>
			</material>
		</visual>
		<collision>
			<geometry>
				<mesh filename="meshes/finger_segment_ipt_50d2a7f4.STL" scale="0.001 0.001 0.001"/>
			</geometry>
			<origin rpy="0 0 0" xyz="-0.006181 -0.015508 -0.007416"/>
		</collision>
		<inertial>
			<mass value="0.000009"/>
			<inertia ixx="0" ixy="0" ixz="-0" iyy="0" iyz="0" izz="0"/>
			<origin rpy="0 0 0" xyz="0.005409 0.000556 -0.005751"/>
		</inertial>
	</link>
	<joint name="l_ringfinger_1st_x" type="fixed">
		<parent link="finger_segment:26"/>
		<child link="finger_segment:16"/>
		<origin rpy="-0.095246 0 0" xyz="-0.00951 0 -0.016"/>
		<axis xyz="0.998051 0.00234199 0.0623629"/>
		<limit effort="30" lower="-1.309" upper="0" velocity="1"/>
	</joint>
	<link name="fingertip:16">
		<visual>
			<geometry>
				<mesh filename="meshes/fingertip_ipt_8417b8a9.STL" scale="0.001 0.001 0.001"/>
			</geometry>
			<origin rpy="0 0 0" xyz="0.005514 0.000374 -0.010171"/>
			<material name="fingertip:16_color">
				<color rgba="0.74902 0.74902 0.74902 1"/>
			</material>
		</visual>
		<collision>
			<geometry>
				<mesh filename="meshes/fingertip_ipt_8417b8a9.STL" scale="0.001 0.001 0.001"/>
			</geometry>
			<origin rpy="0 0 0" xyz="0.005514 0.000374 -0.010171"/>
		</collision>
		<inertial>
			<mass value="0.000008"/>
			<inertia ixx="0" ixy="-0" ixz="-0" iyy="0" iyz="-0" izz="0"/>
			<origin rpy="0 0 0" xyz="0.005013 0.000408 -0.010216"/>
		</inertial>
	</link>
	<joint name="l_ringfinger_2nd_x" type="fixed">
		<parent link="finger_segment:16"/>
		<child link="fingertip:16"/>
		<origin rpy="-0.109613 0 0" xyz="-0 -0 -0.015999"/>
		<axis xyz="0.998051 0.00234199 0.0623629"/>
		<limit effort="30" lower="-1.309" upper="0" velocity="1"/>
	</joint>
</robot>
